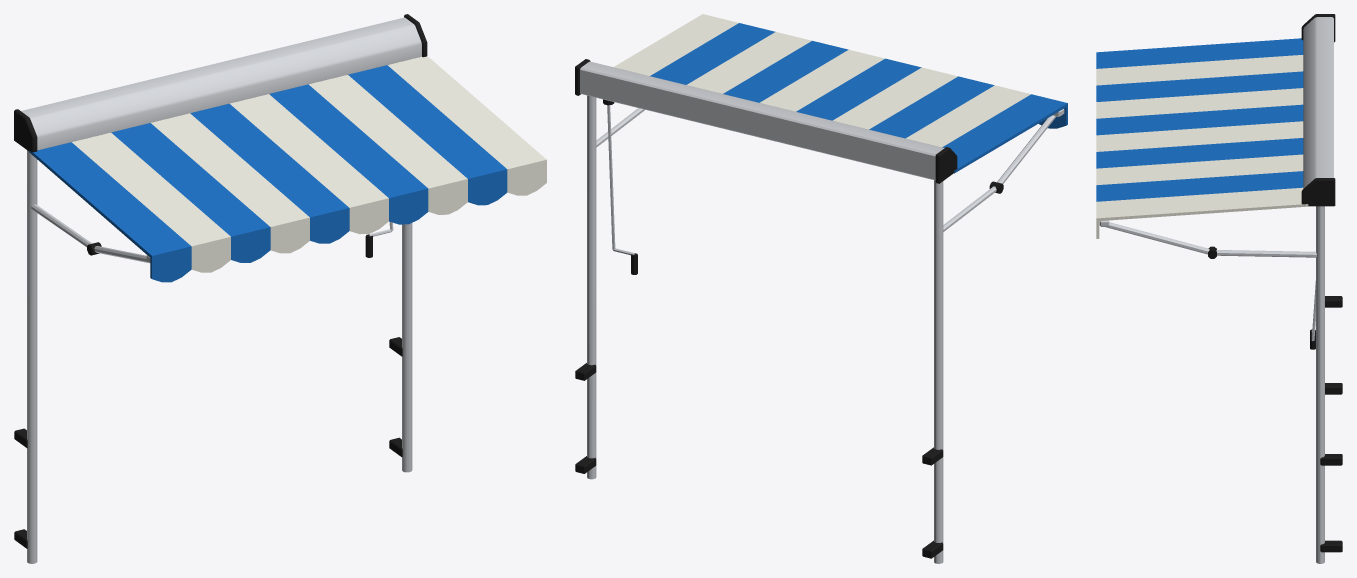
Rendered from toldo_enrollable_chico.glb.
3 renders of one model, left to right at view 1: azimuth 30°, elevation 25°; view 2: azimuth 150°, elevation 25°; view 3: azimuth 270°, elevation 25°, orthographic. The views are drawn at different scales.
Visible parts, largest first — view 1: pieza_tramo, pieza_punta_izq, pieza_punta_der; view 2: pieza_tramo, pieza_punta_izq, pieza_punta_der; view 3: pieza_tramo, pieza_punta_der, pieza_punta_izq.
Boxes of the visible parts, x1,y1,x2,y2 form: pieza_tramo: (94,35,467,262); pieza_punta_izq: (14,93,230,563); pieza_punta_der: (331,14,546,472); pieza_tramo: (648,32,994,163); pieza_punta_izq: (867,85,1067,563); pieza_punta_der: (575,14,775,479); pieza_tramo: (1096,48,1333,185); pieza_punta_der: (1096,147,1342,563); pieza_punta_izq: (1096,14,1342,394).
Size of what is drawn, in the model's own units: 1.6 by 1.74 by 1.
